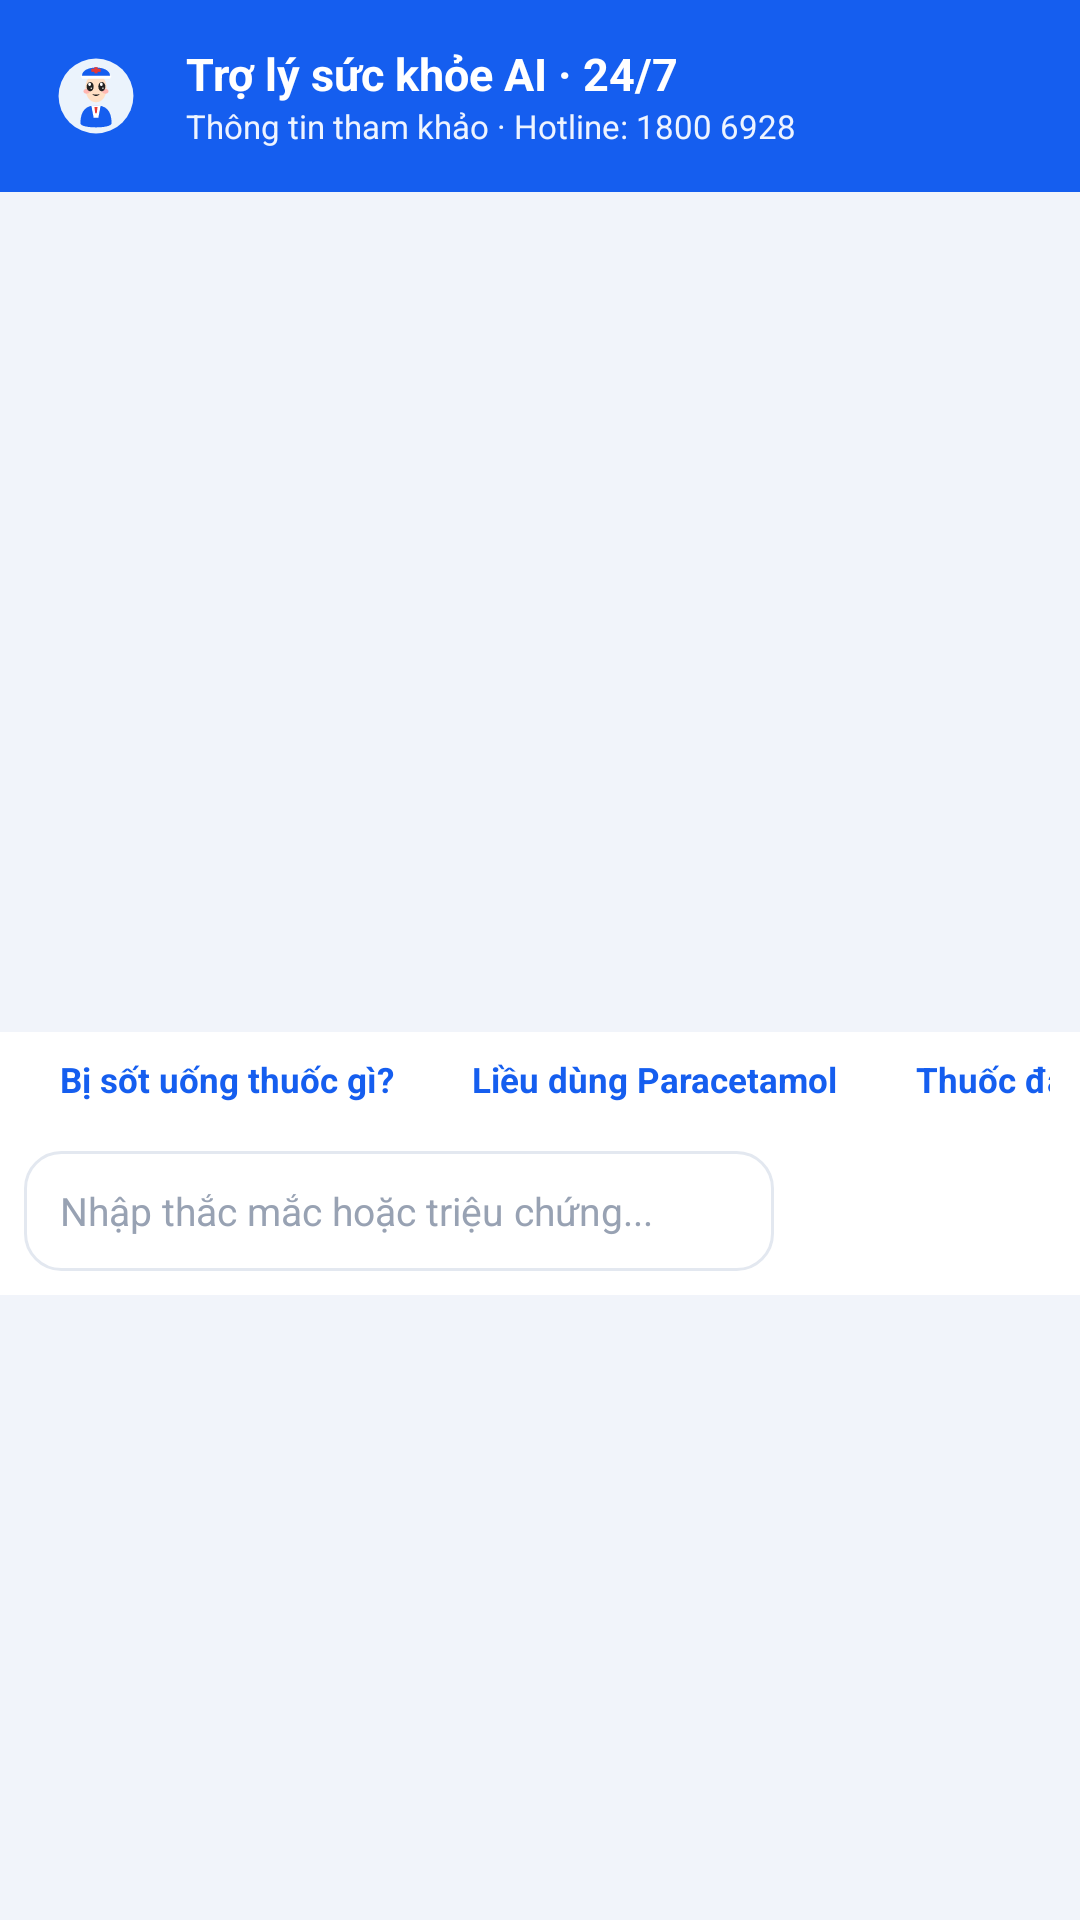

Screen size 1080 × 1920. Icon name, then its box in pixels as (x1, y1, x2, y2):
Pharmacist Mascot: (58, 58, 134, 134)
